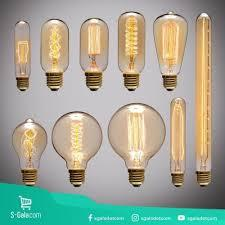Lamp: (104, 101, 170, 191), (48, 107, 107, 192), (193, 11, 217, 191), (113, 6, 150, 92), (9, 116, 50, 190), (163, 92, 191, 197), (154, 10, 187, 92), (76, 15, 111, 92), (41, 16, 69, 93), (13, 17, 35, 94)
